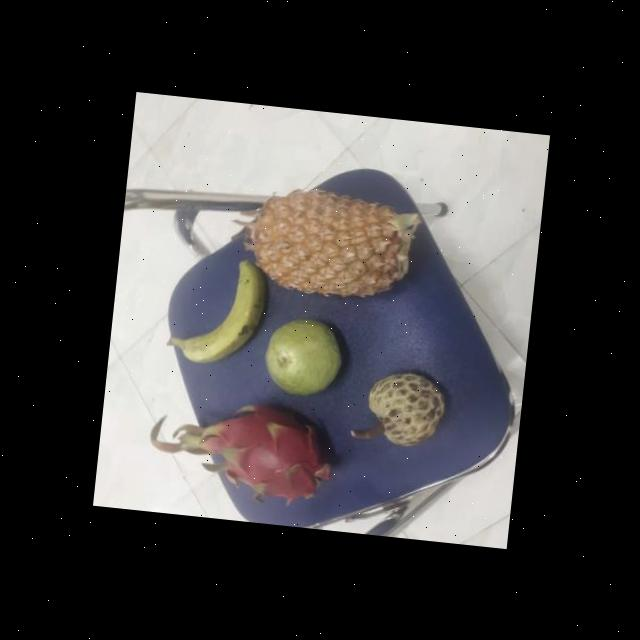Sakya fruit: (360, 362, 449, 450)
banana: (162, 248, 266, 366)
guava: (260, 310, 344, 398)
pineapple: (252, 180, 418, 302)
pitaya: (198, 392, 342, 502)
